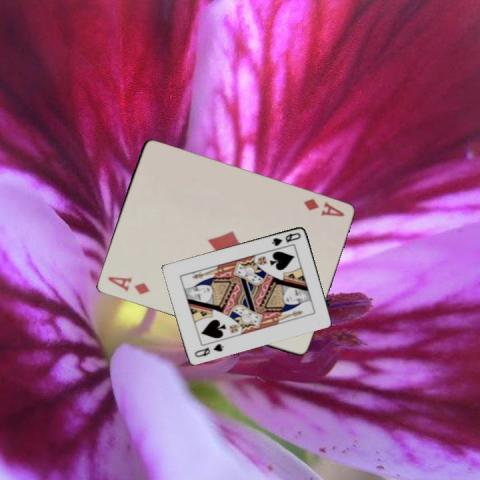Ad: (104, 273, 152, 297), (300, 195, 345, 218)
Qs: (191, 340, 225, 359), (269, 230, 302, 248)
